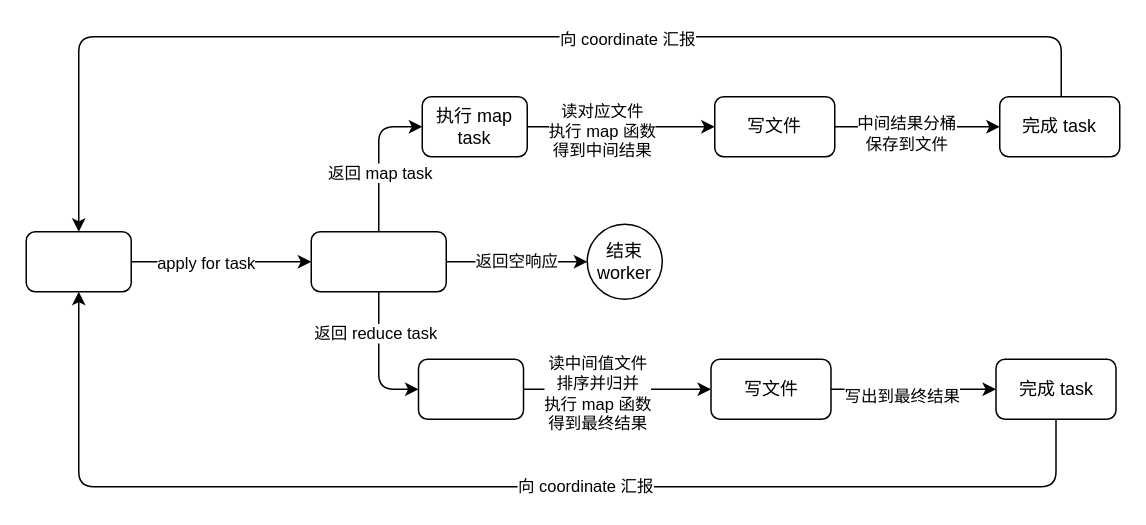
The diagram is 1146 pixels wide and 525 high, and some of its shapes have lost their labels. Each missing label, with the centre of its shape:
执行 reduce task: the point at 470,388
空闲状态: the point at 78,261
等待coordinator返回: the point at 378,261
